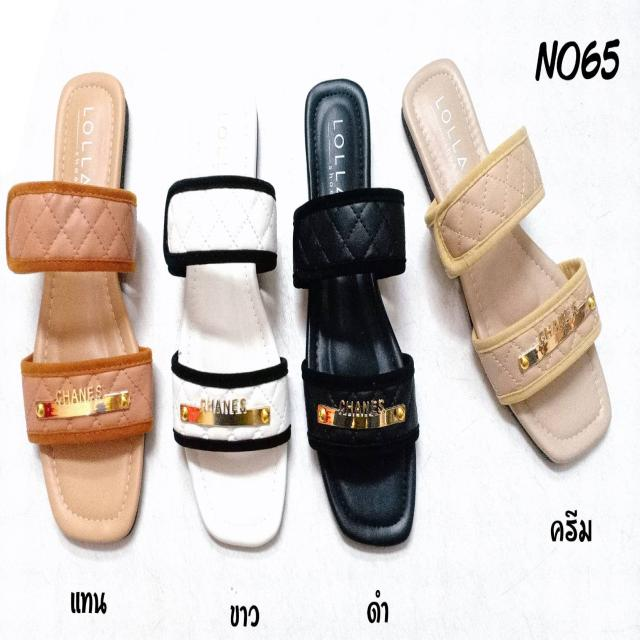black: (303, 84, 415, 542)
cream: (409, 68, 612, 468)
tan: (31, 73, 147, 541)
white: (176, 94, 288, 548)
